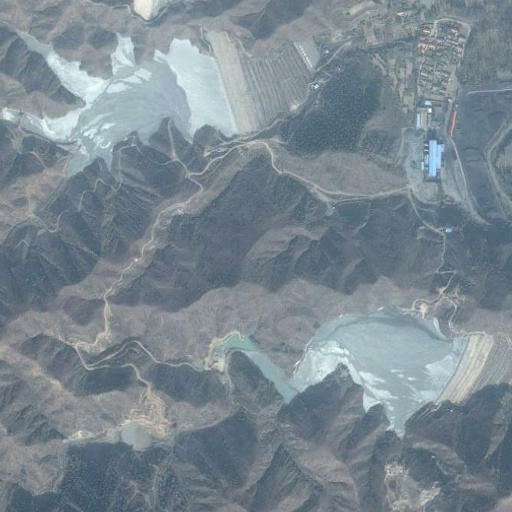tp: (6, 29, 325, 183), (215, 311, 511, 415)
